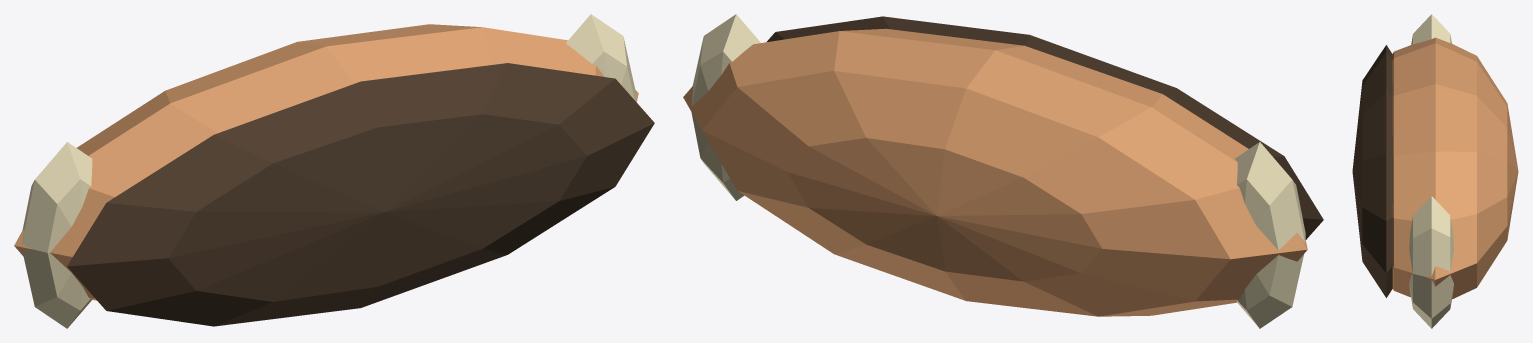
The model's file is eclair.glb.
3 views of the same model, side by side, from view 1: azimuth 30°, elevation 25°; view 2: azimuth 150°, elevation 25°; view 3: azimuth 270°, elevation 25° (orthographic). The views are drawn at different scales.
Parts seen in each view (by area): view 1: eclair; view 2: eclair; view 3: eclair.
Boxes of the visible parts, left/top/right/bottom form: eclair: left=14, top=14, right=654, bottom=328; eclair: left=683, top=14, right=1323, bottom=328; eclair: left=1352, top=14, right=1518, bottom=328.
Bounding box in the file's own units: 0.136 × 0.0512 × 0.044.
